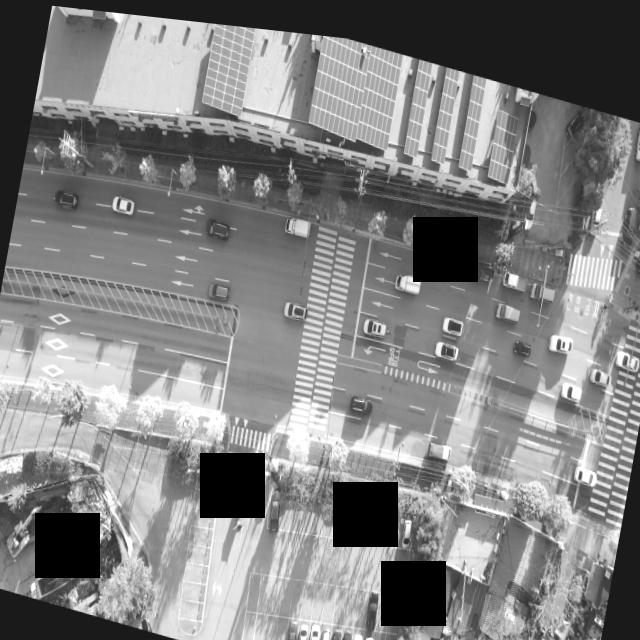car: (264, 476, 286, 530), (358, 304, 389, 336), (492, 284, 524, 315), (526, 266, 558, 295), (545, 315, 575, 345), (203, 210, 234, 239), (363, 579, 382, 624), (520, 177, 539, 220), (431, 326, 460, 354), (51, 184, 78, 212), (347, 382, 374, 410), (439, 303, 466, 330), (572, 449, 598, 477), (280, 292, 309, 317), (613, 334, 640, 360), (558, 367, 584, 393), (509, 322, 534, 349), (588, 350, 612, 378), (588, 181, 604, 223), (206, 274, 231, 298), (282, 609, 301, 640), (398, 507, 414, 542), (292, 613, 312, 640), (110, 192, 134, 214), (304, 614, 322, 640), (327, 618, 345, 640), (346, 621, 366, 640), (631, 106, 640, 148), (316, 617, 332, 640), (337, 620, 354, 640), (358, 625, 377, 640), (371, 631, 389, 640)
medium_truck: (23, 540, 85, 609)
small_truck: (283, 205, 312, 234), (620, 189, 640, 230), (392, 261, 421, 287), (427, 428, 452, 454), (502, 258, 528, 282), (468, 250, 494, 273)
